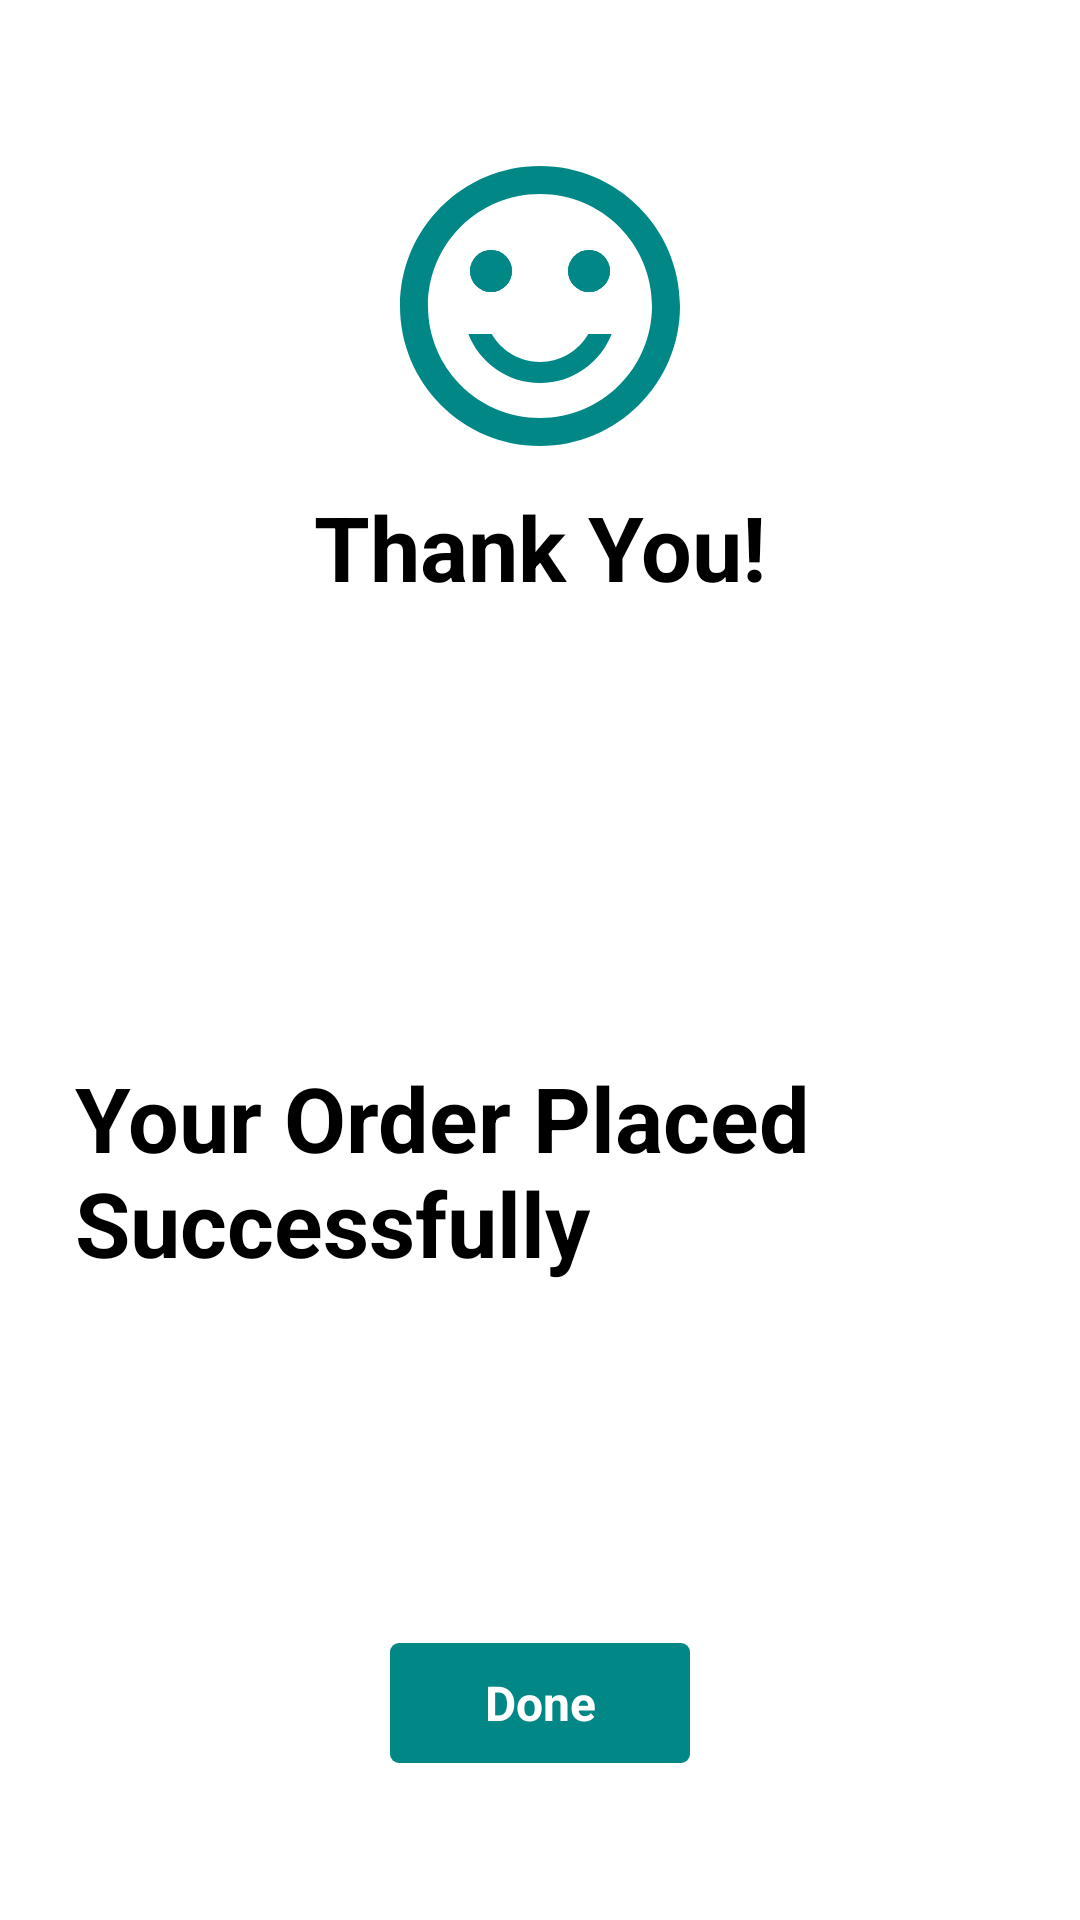

Screen size 1080*1920. Icon name, then its center in pixels as (x=x, y=y):
sentiment satisfied: (x=540, y=306)
